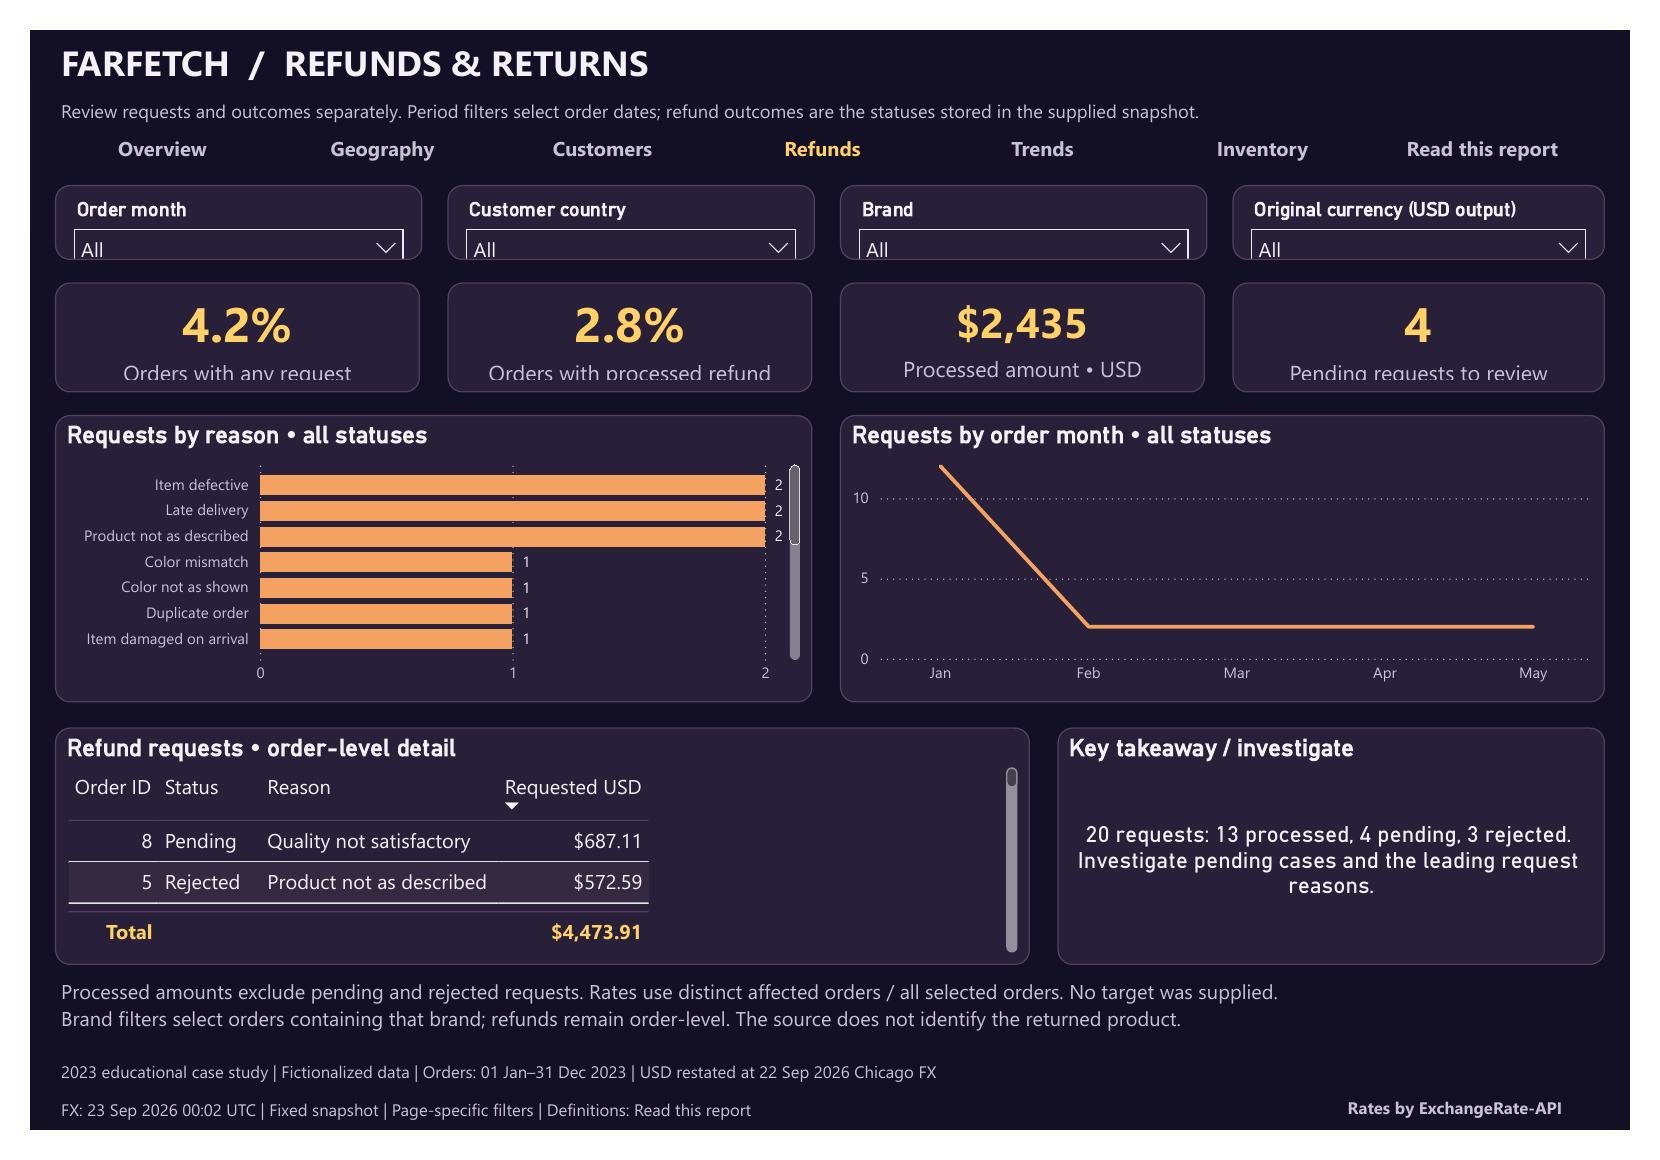

The dashboard page shown, as its layout file describes it:
{"tool":"powerbi","page":{"name":"Refunds & Returns","canvas":[1280,880],"ordinal":3},"visuals":[{"type":"textbox","box":[20,2,1238,48],"z":7300},{"type":"textbox","box":[20,50,1238,30],"z":7400},{"type":"actionButton","box":[20,78,172,32],"z":7500},{"type":"actionButton","box":[196,78,172,32],"z":7600},{"type":"actionButton","box":[372,78,172,32],"z":7700},{"type":"actionButton","box":[548,78,172,32],"z":7800},{"type":"actionButton","box":[724,78,172,32],"z":7900},{"type":"actionButton","box":[900,78,172,32],"z":8000},{"type":"actionButton","box":[1076,78,172,32],"z":8100},{"type":"slicer","fields":{"Values":["Calendar.Year Month"]},"box":[20,124,294,60],"z":8200},{"type":"slicer","fields":{"Values":["customers.country"]},"box":[334,124,294,60],"z":8300},{"type":"slicer","fields":{"Values":["products.brand"]},"box":[648,124,294,60],"z":8400},{"type":"slicer","fields":{"Values":["orders.currency"]},"box":[962,124,298,60],"z":8500},{"type":"textbox","box":[20,820,1240,30],"z":8600},{"type":"textbox","box":[20,850,990,28],"z":8700},{"type":"card","fields":{"Values":["measures (2).Refund Request Rate"]},"box":[20,202,292,88],"z":8800},{"type":"card","fields":{"Values":["measures (2).Processed Refund Rate"]},"box":[334,202,292,88],"z":8900},{"type":"card","fields":{"Values":["measures (2).Processed Refund USD"]},"box":[648,202,292,88],"z":9000},{"type":"card","fields":{"Values":["measures (2).Pending Requests"]},"box":[962,202,298,88],"z":9100},{"type":"clusteredBarChart","title":"Requests by reason • all statuses","fields":{"Category":["refunds.refund_reason"],"Y":["measures (2).Refund Requests"]},"box":[20,308,606,230],"z":9200},{"type":"lineChart","title":"Requests by order month • all statuses","fields":{"Category":["Calendar.Month"],"Y":["measures (2).Refund Requests"]},"box":[648,308,612,230],"z":9300},{"type":"tableEx","title":"Refund requests • order-level detail","fields":{"Values":["refunds.order_id","refunds.refund_status","refunds.refund_reason","measures (2).Requested Refund USD"]},"box":[20,558,780,190],"z":9400},{"type":"card","title":"Key takeaway / investigate","fields":{"Values":["measures (2).Refund Takeaway"]},"box":[822,558,438,190],"z":9500},{"type":"textbox","box":[20,754,1240,60],"z":9600},{"type":"actionButton","box":[1020,850,240,24],"z":15900}]}

Visuals, with their boxes in screenshot pixels (x1, y1, x2, y2), scaled from the page's 1280x880 canvas onto the 1660x1160 screenshot:
textbox: (left=26, top=3, right=1631, bottom=66)
textbox: (left=26, top=66, right=1631, bottom=105)
actionButton: (left=26, top=103, right=249, bottom=145)
actionButton: (left=254, top=103, right=477, bottom=145)
actionButton: (left=482, top=103, right=706, bottom=145)
actionButton: (left=711, top=103, right=934, bottom=145)
actionButton: (left=939, top=103, right=1162, bottom=145)
actionButton: (left=1167, top=103, right=1390, bottom=145)
actionButton: (left=1395, top=103, right=1618, bottom=145)
slicer - Calendar.Year Month: (left=26, top=163, right=407, bottom=243)
slicer - customers.country: (left=433, top=163, right=814, bottom=243)
slicer - products.brand: (left=840, top=163, right=1222, bottom=243)
slicer - orders.currency: (left=1248, top=163, right=1634, bottom=243)
textbox: (left=26, top=1081, right=1634, bottom=1120)
textbox: (left=26, top=1120, right=1310, bottom=1157)
card - measures (2).Refund Request Rate: (left=26, top=266, right=405, bottom=382)
card - measures (2).Processed Refund Rate: (left=433, top=266, right=812, bottom=382)
card - measures (2).Processed Refund USD: (left=840, top=266, right=1219, bottom=382)
card - measures (2).Pending Requests: (left=1248, top=266, right=1634, bottom=382)
"Requests by reason • all statuses" clusteredBarChart: (left=26, top=406, right=812, bottom=709)
"Requests by order month • all statuses" lineChart: (left=840, top=406, right=1634, bottom=709)
"Refund requests • order-level detail" tableEx: (left=26, top=736, right=1038, bottom=986)
"Key takeaway / investigate" card: (left=1066, top=736, right=1634, bottom=986)
textbox: (left=26, top=994, right=1634, bottom=1073)
actionButton: (left=1323, top=1120, right=1634, bottom=1152)
